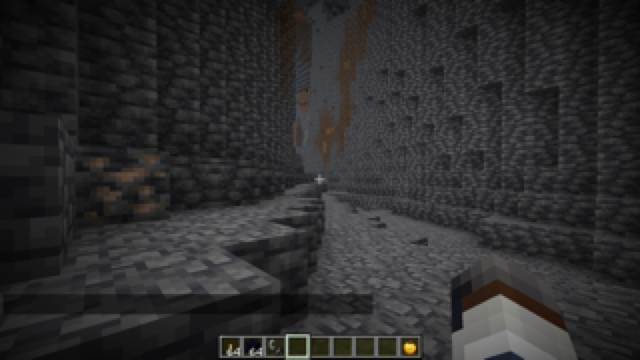iron: (71, 143, 172, 225)
